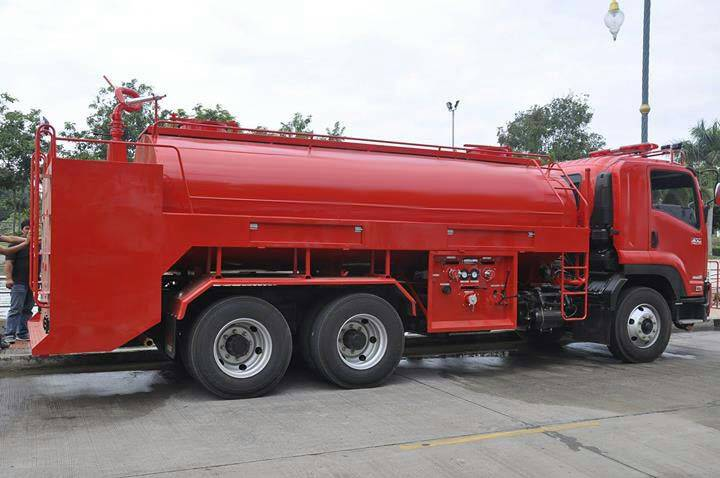truck: (30, 120, 712, 398)
